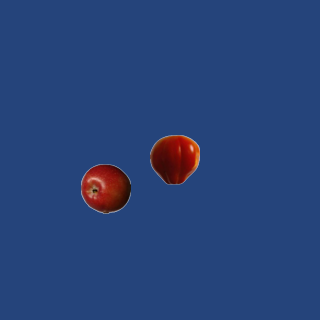Apple Braeburn: (80, 163, 130, 213)
Tomato 1: (149, 134, 199, 184)
